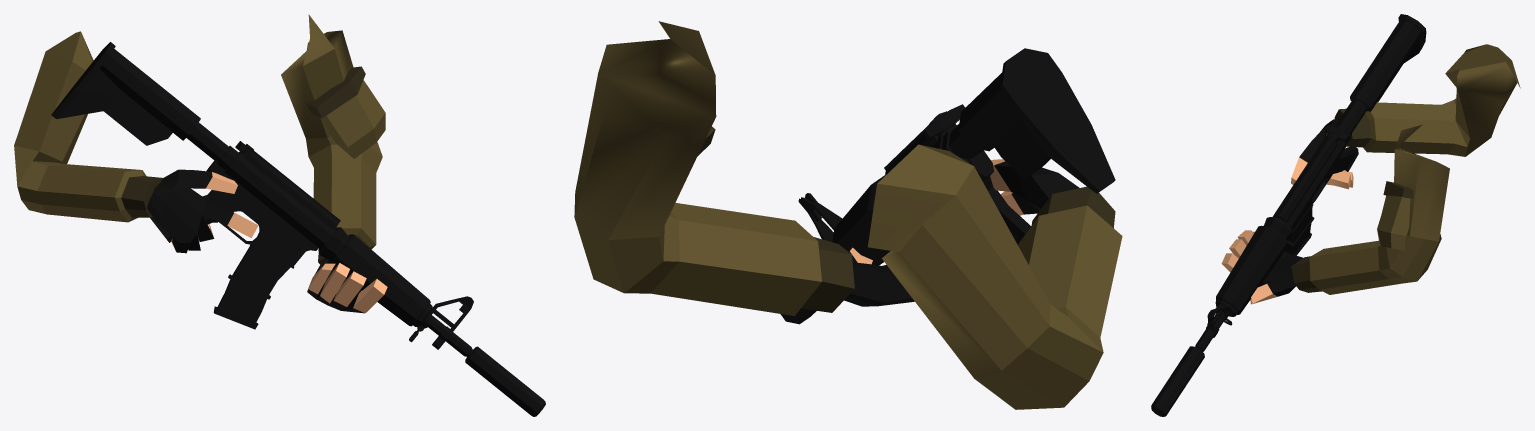
The model's file is holding_gun_close.obj.
The picture shows the model from 3 angles, left to right: view 1: azimuth 30°, elevation 25°; view 2: azimuth 150°, elevation 25°; view 3: azimuth 270°, elevation 25°; orthographic projection. The views are drawn at different scales.
Parts seen in each view (by area): view 1: Soldat_Cylinder.001, M4_Cube.001, M4_Amo_Cube.007; view 2: Soldat_Cylinder.001, M4_Cube.001; view 3: Soldat_Cylinder.001, M4_Cube.001, M4_Amo_Cube.007.
Boxes of the visible parts, x1,y1,x2,y2 form: Soldat_Cylinder.001: [14, 14, 387, 313]; M4_Cube.001: [51, 42, 545, 416]; M4_Amo_Cube.007: [213, 244, 290, 329]; Soldat_Cylinder.001: [574, 21, 1122, 409]; M4_Cube.001: [780, 48, 1115, 324]; Soldat_Cylinder.001: [1221, 44, 1520, 304]; M4_Cube.001: [1151, 14, 1426, 416]; M4_Amo_Cube.007: [1285, 206, 1314, 255].
Size of the model in its own units: 15.36 by 13.71 by 16.08.
